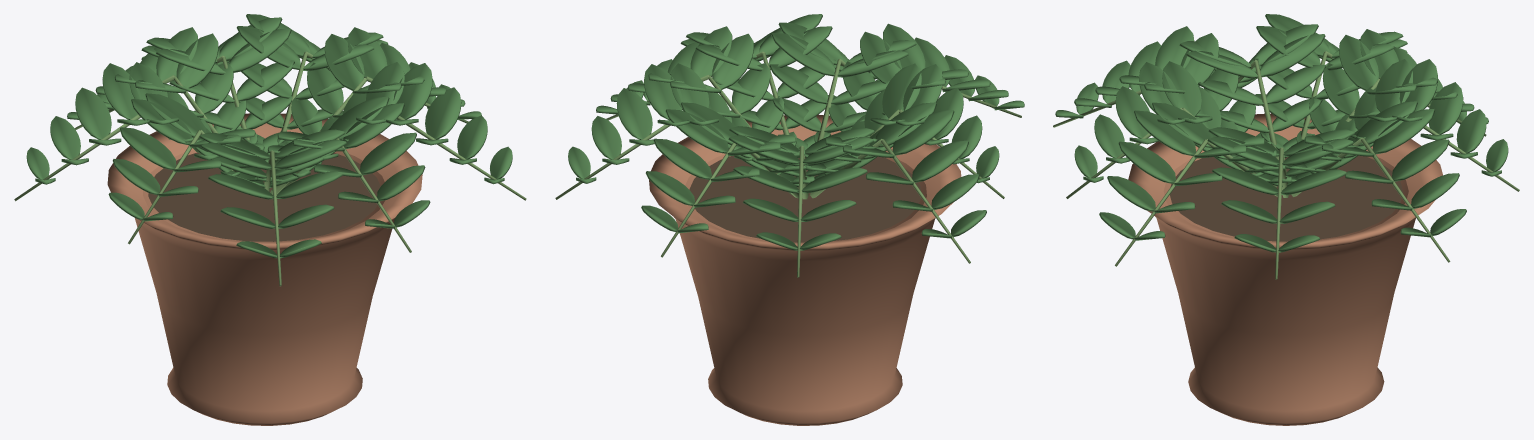
The model's file is PlantFern.fbx.
The picture shows the model from 3 angles, left to right: view 1: azimuth 30°, elevation 25°; view 2: azimuth 150°, elevation 25°; view 3: azimuth 270°, elevation 25°; orthographic projection.
Visible parts, largest first — view 1: FernFoliage, FernPot, FernSoil, FernStems; view 2: FernFoliage, FernPot, FernSoil, FernStems; view 3: FernFoliage, FernPot, FernSoil, FernStems.
Boxes of the visible parts, x1,y1,x2,y2 form: FernFoliage: (26,14,512,258); FernPot: (107,113,422,425); FernSoil: (148,152,380,241); FernStems: (14,51,526,286); FernFoliage: (568,14,1024,250); FernPot: (649,114,961,425); FernSoil: (689,156,920,242); FernStems: (555,51,1021,277); FernFoliage: (1055,14,1508,252); FernPot: (1128,113,1442,425); FernSoil: (1170,150,1403,241); FernStems: (1053,51,1519,279).
Bounding box in the file's own units: 207 × 145 × 199.
